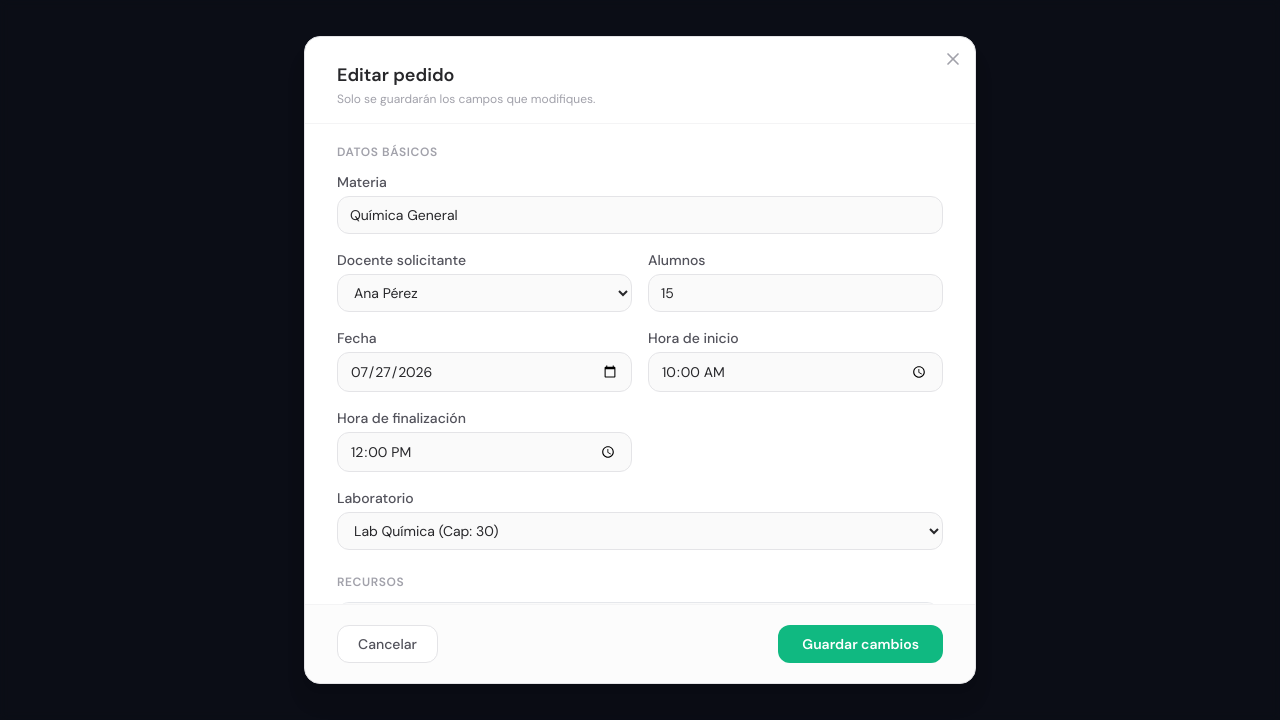
it: EditarPedidoForm Component › rechaza una hora de finalización anterior a la de inicio
The width and height of the screenshot is (1280, 720).
Replace the text in the time field below "Hora de finalización" with "09:00" at (484, 452), box [337, 432, 632, 472]
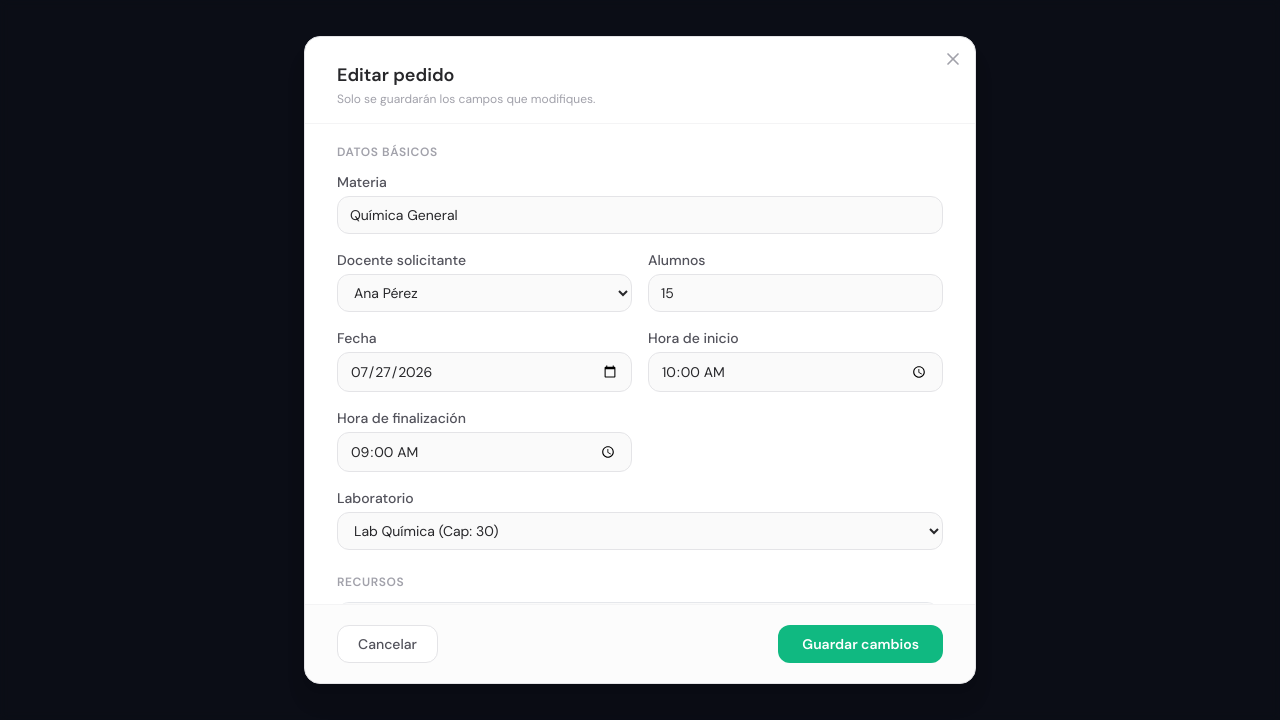
Click the button "Guardar cambios" at (861, 644), box [778, 625, 943, 663]
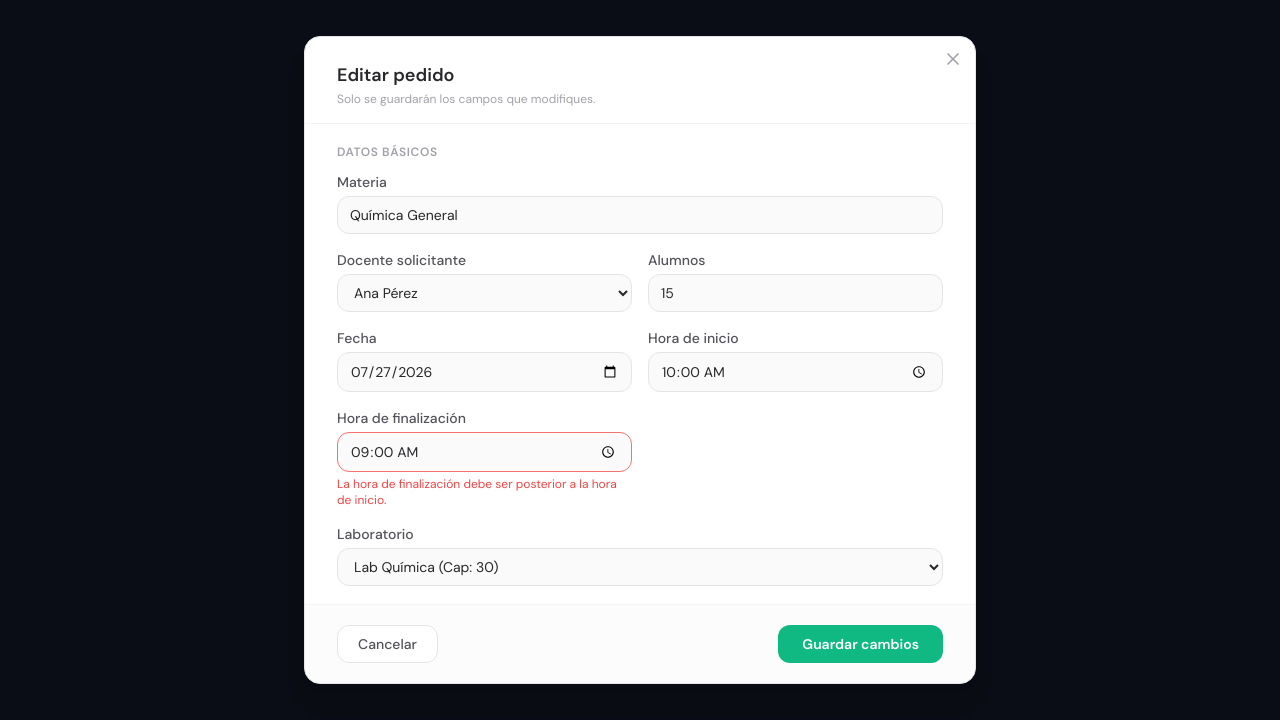
Check: the text "La hora de finalización debe ser posterior a la hora de inicio." is shown, box [337, 476, 632, 508]
